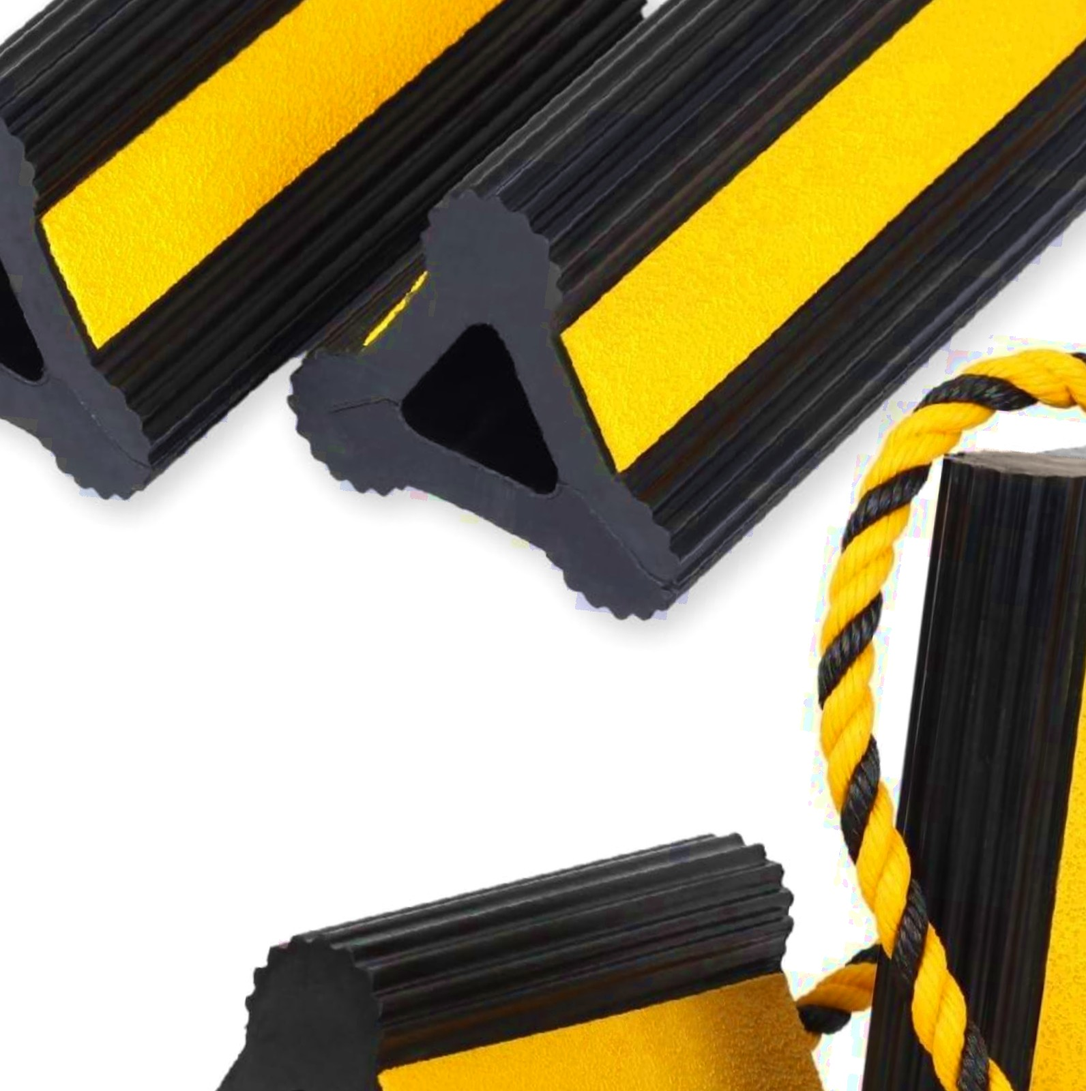chock: (259, 0, 1086, 697), (0, 0, 684, 591), (80, 743, 918, 1091)
